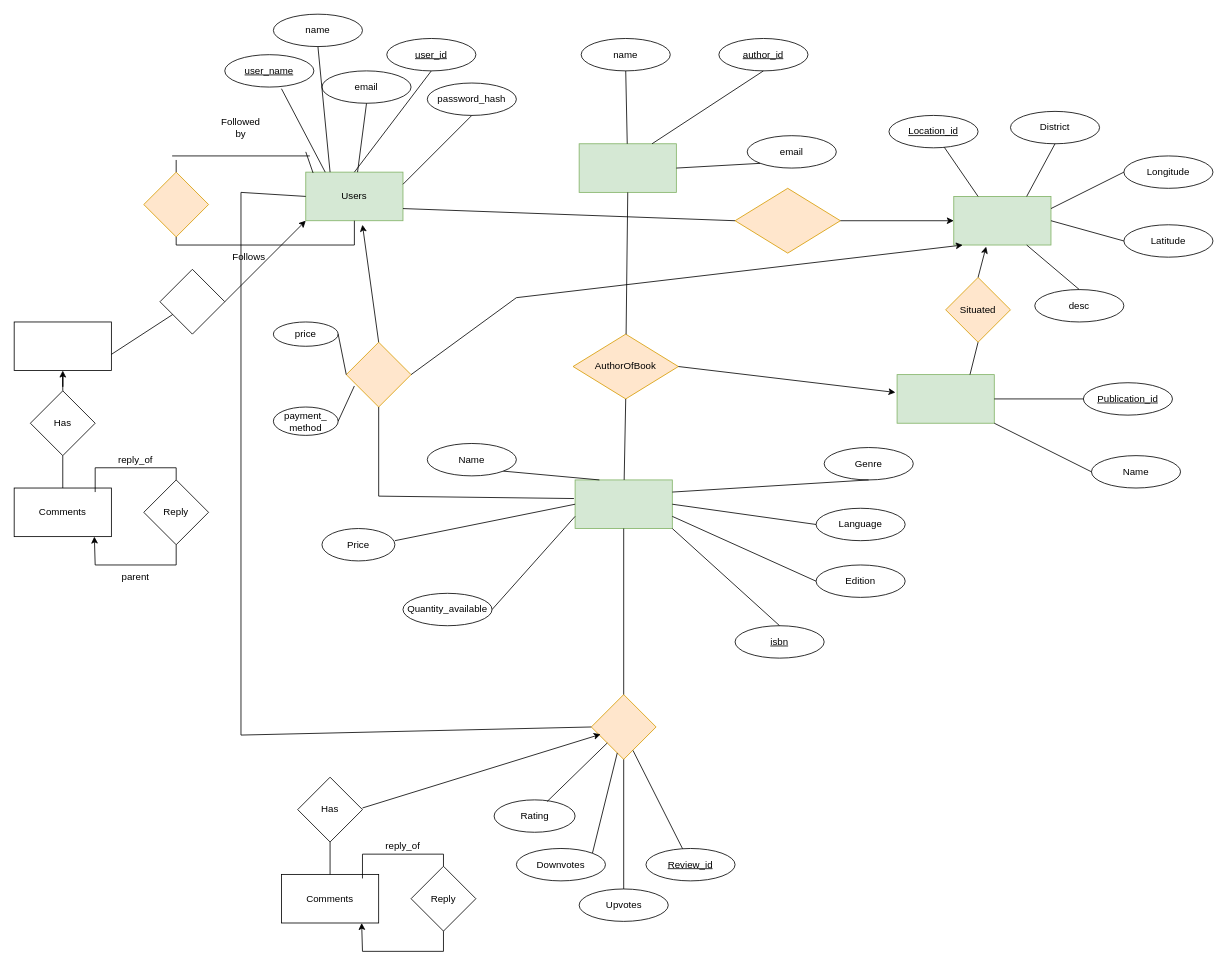
The diagram is 1227 pixels wide and 972 high, and some of its shapes have lost their labels. The shapes that lost their labels are listed below. From the top down, each one's box as (x1, y1, x2, y2) in pixels, then its label:
(578, 143, 676, 192): Author
(143, 171, 209, 237): following
(734, 188, 840, 253): Stays
(953, 196, 1051, 245): Location
(159, 269, 225, 334): makes
(13, 321, 111, 371): Posts
(345, 341, 411, 407): Transaction
(896, 374, 994, 423): Publication
(574, 479, 672, 529): Book
(590, 694, 656, 759): Reviewd
